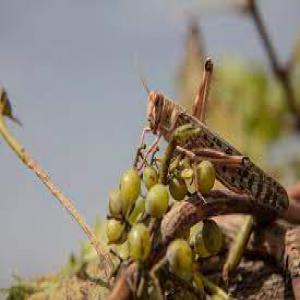locust: (144, 55, 294, 227)
